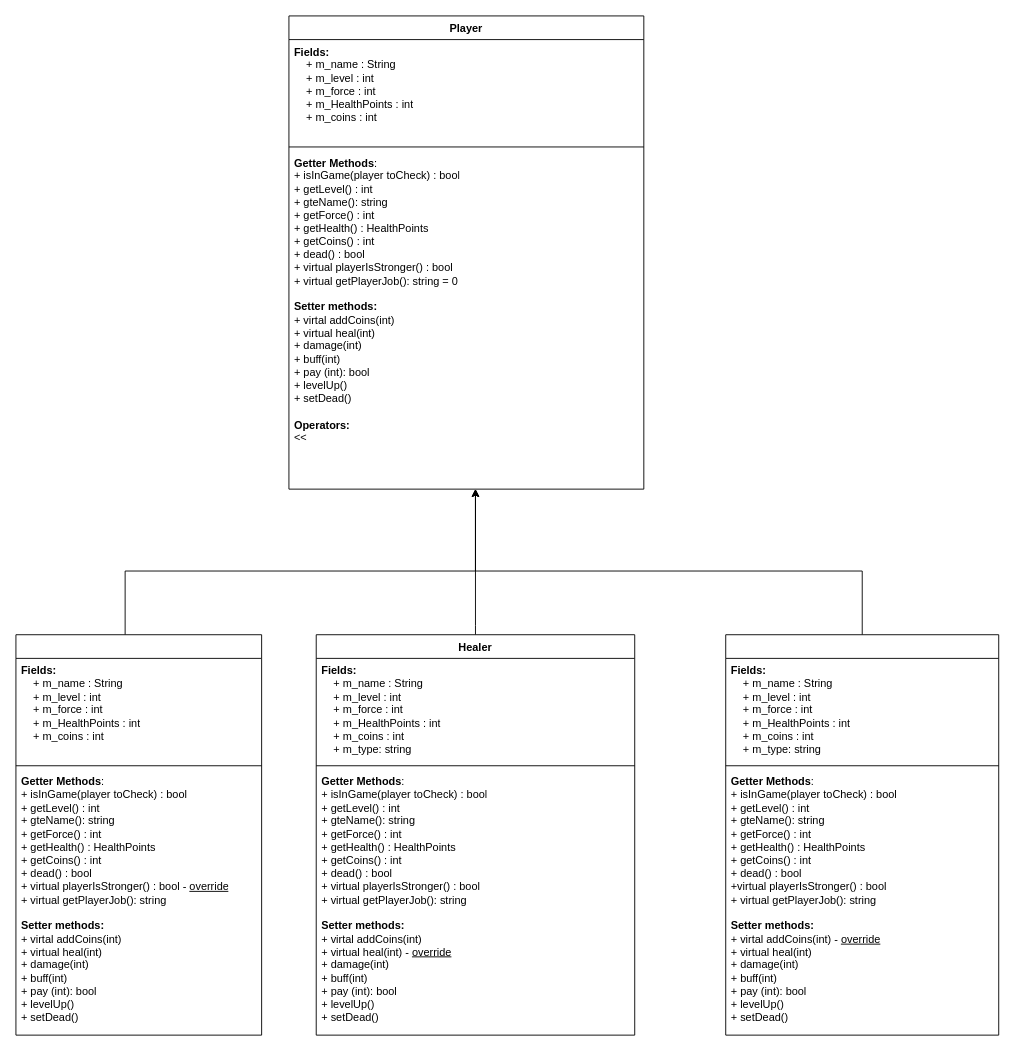
Some shapes in this 1015 by 1054 pixel diagram are drawn without their labels. Each missing label, with the box of its shape:
Ninja: (725, 634, 999, 1035)
Warrior: (15, 634, 262, 1035)
